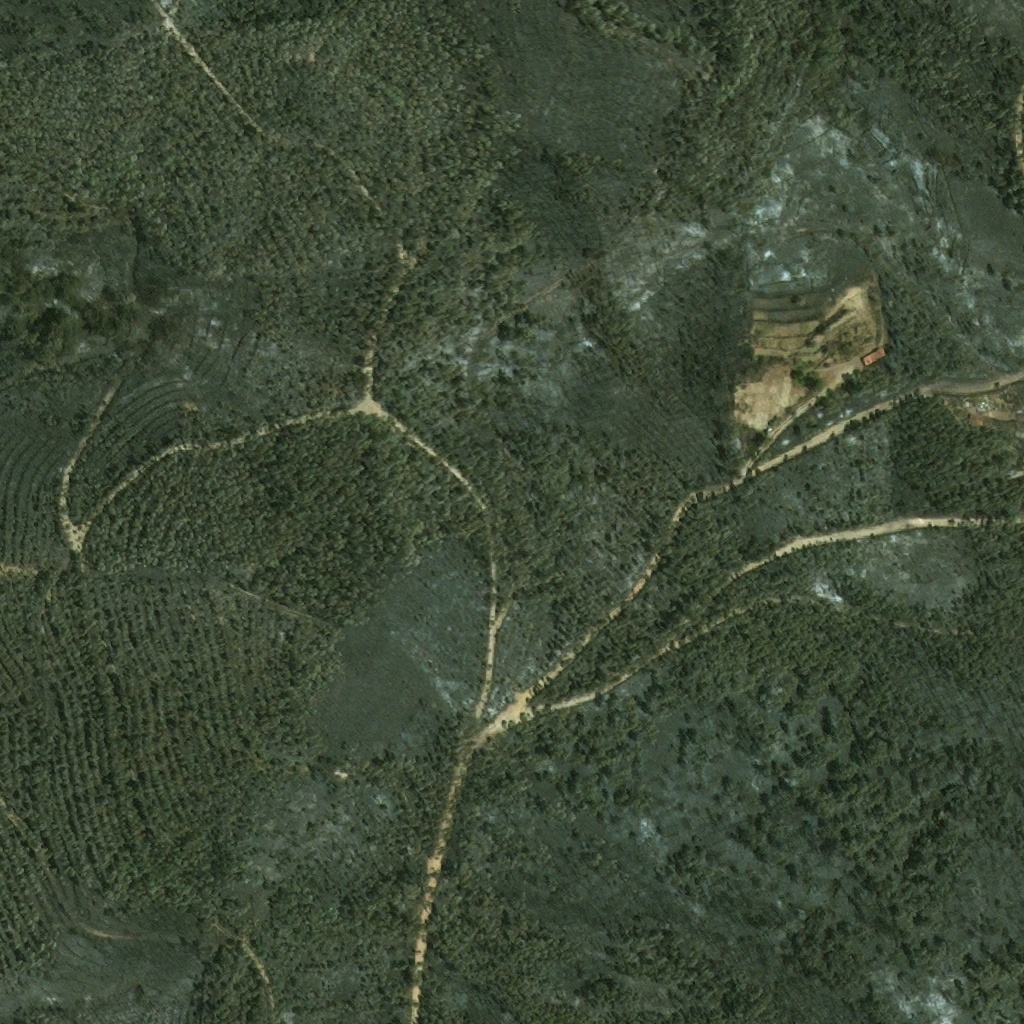0 no-damage: (857, 346, 883, 368)
